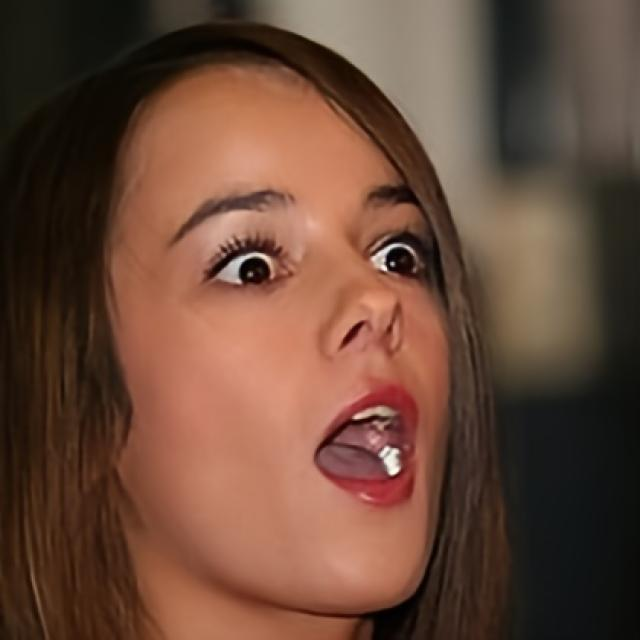surprise: (107, 54, 462, 616)
